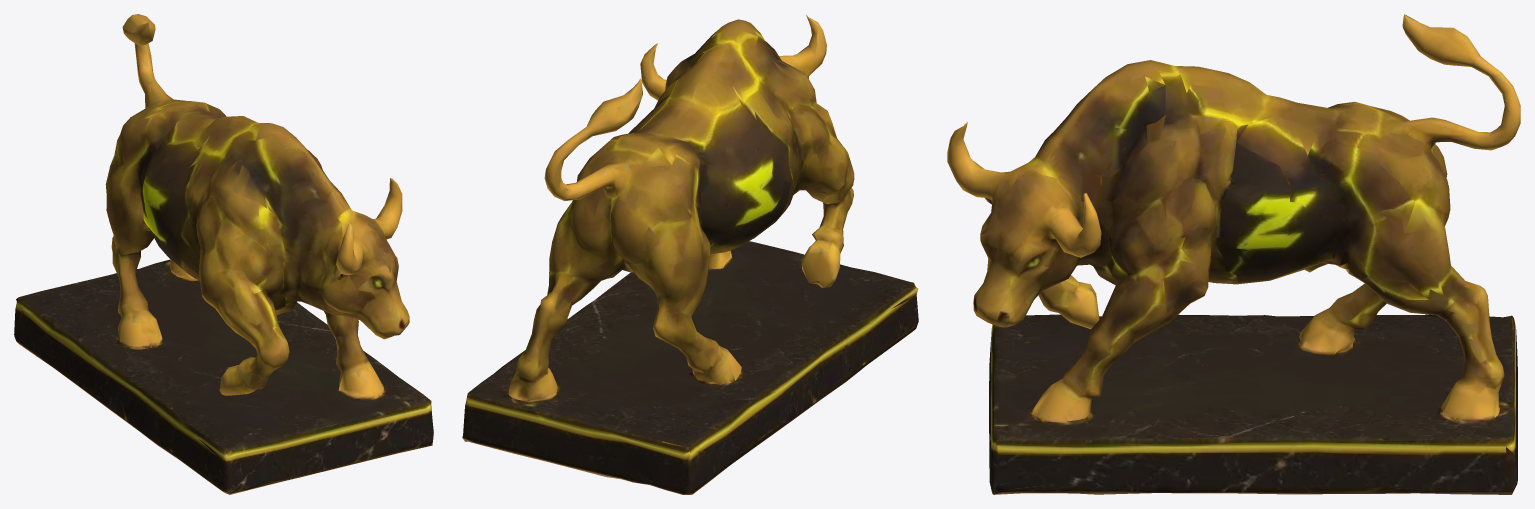
The model's file is mythic-1-gold-bull.glb.
3 views of the same model, side by side, from view 1: azimuth 30°, elevation 25°; view 2: azimuth 150°, elevation 25°; view 3: azimuth 270°, elevation 25° (orthographic). The views are drawn at different scales.
Visible parts, largest first — view 1: tripo_node_a930bdd1-2ab1-4f7e-8727-4b8fcc79a97a; view 2: tripo_node_a930bdd1-2ab1-4f7e-8727-4b8fcc79a97a; view 3: tripo_node_a930bdd1-2ab1-4f7e-8727-4b8fcc79a97a.
Part boxes in pixels (x1,y1,x2,y2): tripo_node_a930bdd1-2ab1-4f7e-8727-4b8fcc79a97a: (14,14,433,494); tripo_node_a930bdd1-2ab1-4f7e-8727-4b8fcc79a97a: (462,14,918,494); tripo_node_a930bdd1-2ab1-4f7e-8727-4b8fcc79a97a: (947,14,1520,494).
Bounding box in the file's own units: 0.5396 × 0.7853 × 0.9948.
1 material, 1 textured.
